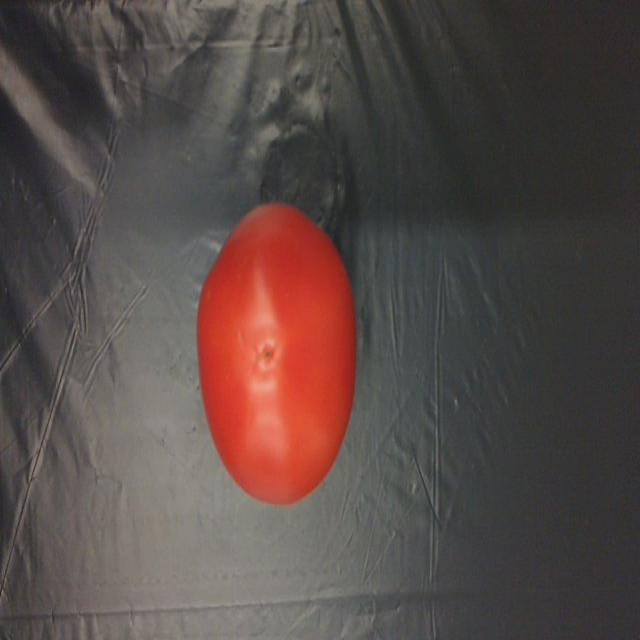kirmizi: (173, 179, 368, 524)
